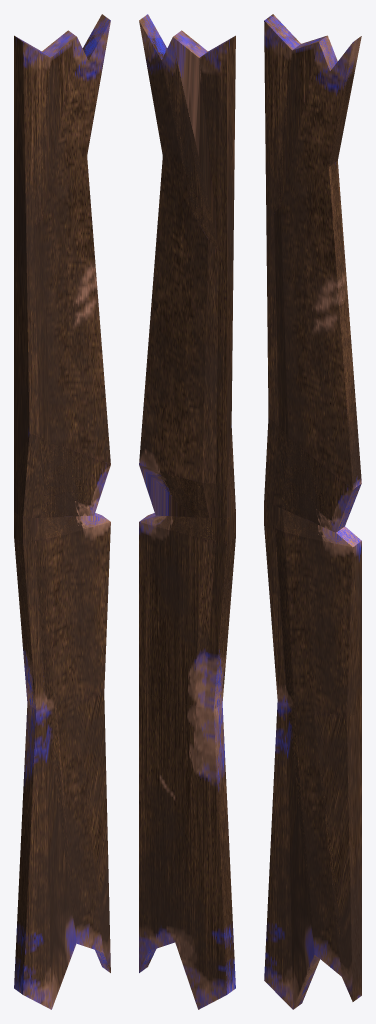
File: MaderaG.fbx
3 views of the same model, side by side, from view 1: azimuth 30°, elevation 25°; view 2: azimuth 150°, elevation 25°; view 3: azimuth 330°, elevation 25° (orthographic).
Parts seen in each view (by area): view 1: Cubo.011; view 2: Cubo.011; view 3: Cubo.011.
Boxes of the visible parts, left/top/right/bottom form: Cubo.011: left=14, top=14, right=110, bottom=1009; Cubo.011: left=139, top=14, right=235, bottom=1009; Cubo.011: left=264, top=14, right=361, bottom=1009.
Size of the model in its own units: 44.62 by 472 by 12.19.
1 material, 1 textured.
